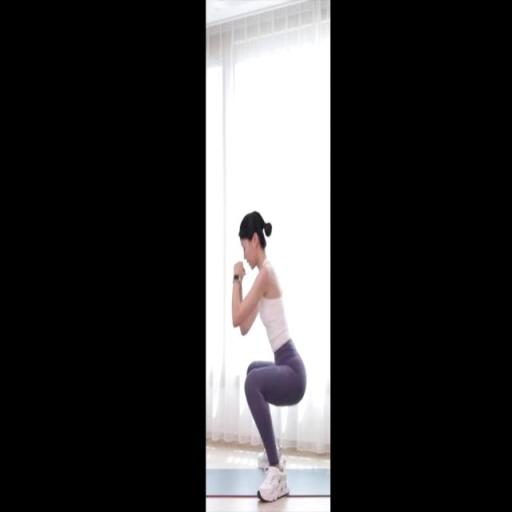Normal_BrenchPress: (230, 211, 307, 504)
